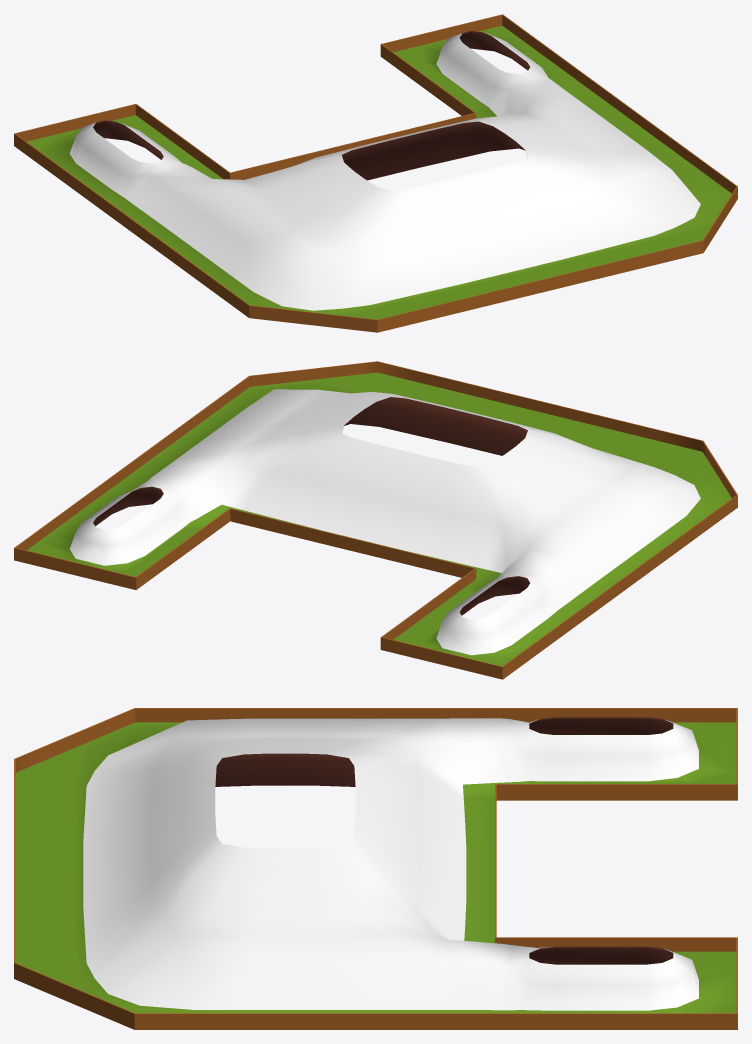
Rendered from Tejado.fbx.
3 views of the same model, one above another, from view 1: azimuth 30°, elevation 25°; view 2: azimuth 150°, elevation 25°; view 3: azimuth 270°, elevation 25° (orthographic). The views are drawn at different scales.
Parts seen in each view (by area): view 1: TejadoDefinitivo; view 2: TejadoDefinitivo; view 3: TejadoDefinitivo.
Boxes of the visible parts, x1,y1,x2,y2 form: TejadoDefinitivo: (14, 14, 737, 332); TejadoDefinitivo: (14, 361, 737, 679); TejadoDefinitivo: (14, 708, 737, 1029).
Size of the model in its own units: 4800 by 556 by 4800.
